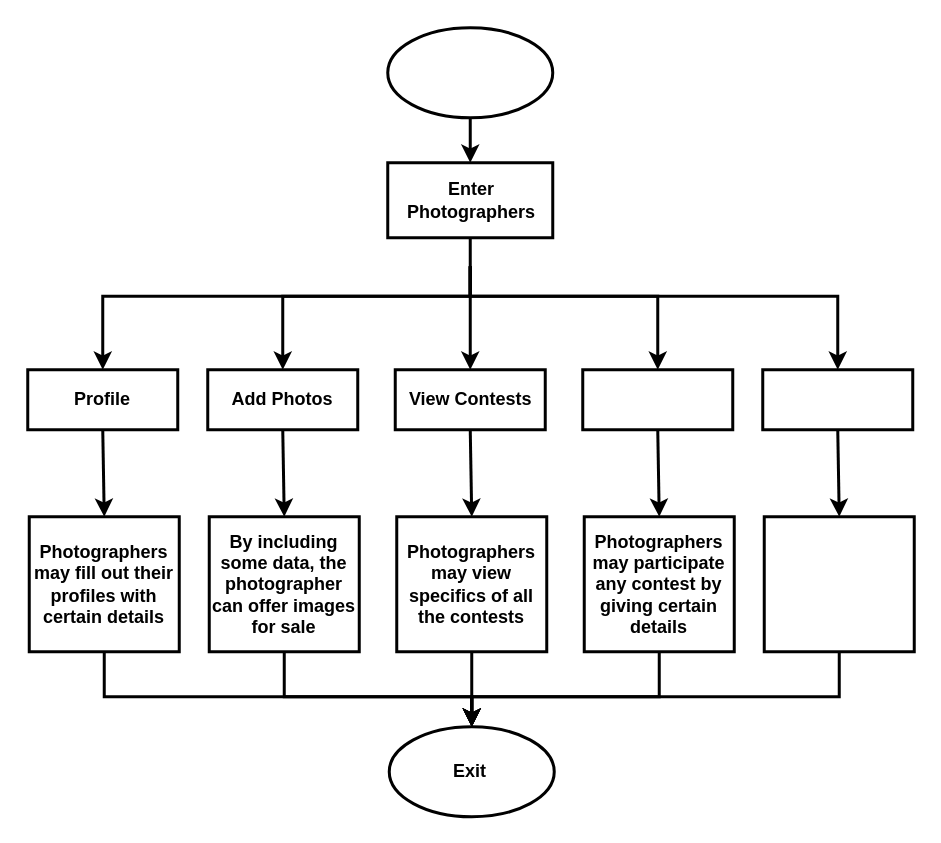
This 941x843 diagram has some shape labels left out. The shapes that lost their labels are listed below. From the top down, each one's box as (x1, y1, x2, y2) in pixels, then its label:
(386, 26, 554, 118): Start
(580, 368, 734, 430): Participate Contest
(760, 368, 914, 430): Contact
(762, 514, 915, 652): Photographers can get in touch with or message the admin
